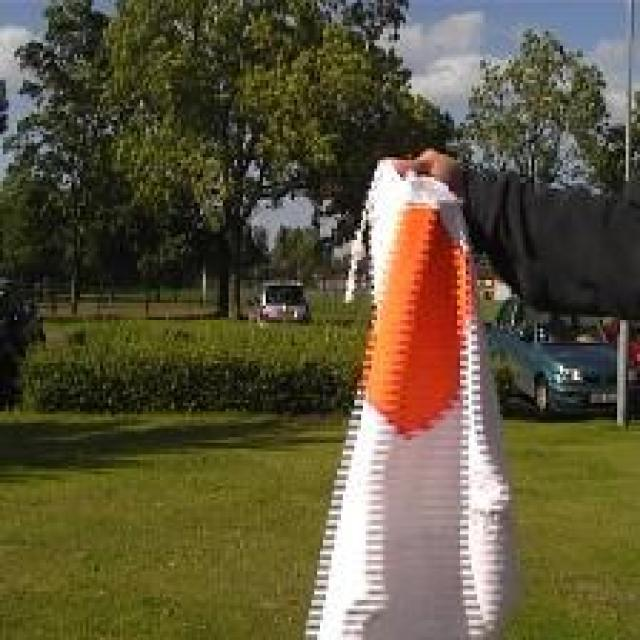other: (361, 161, 492, 456)
